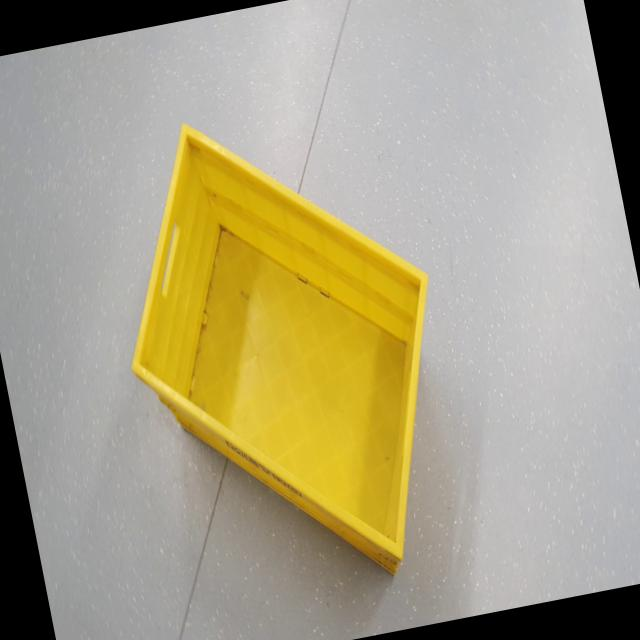box: (78, 69, 491, 640)
